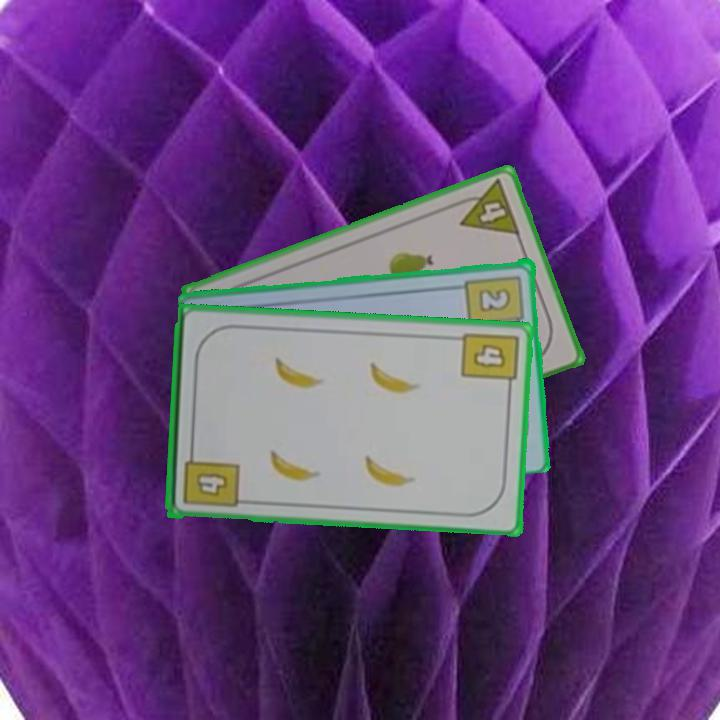2b: (463, 271, 528, 333)
4b: (458, 328, 521, 395), (179, 444, 242, 510)
4p: (450, 175, 523, 238)
